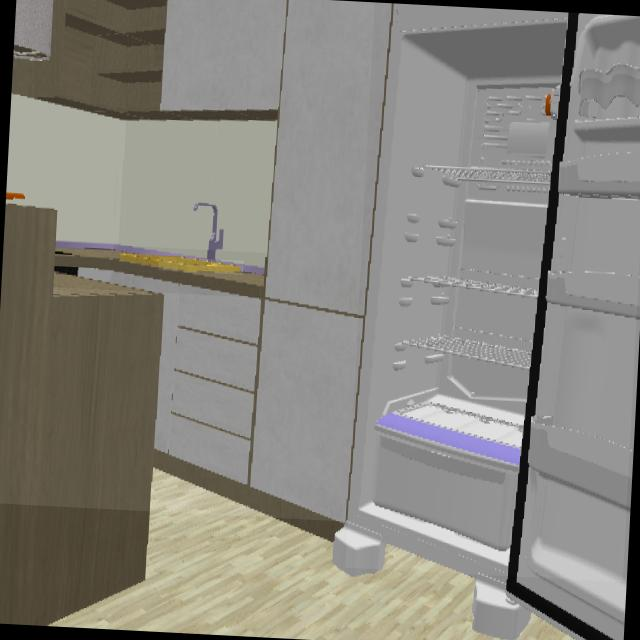cabinet: (11, 0, 393, 521)
countertop: (56, 242, 265, 298)
fridge: (348, 13, 640, 582)
sink: (160, 258, 244, 272)
